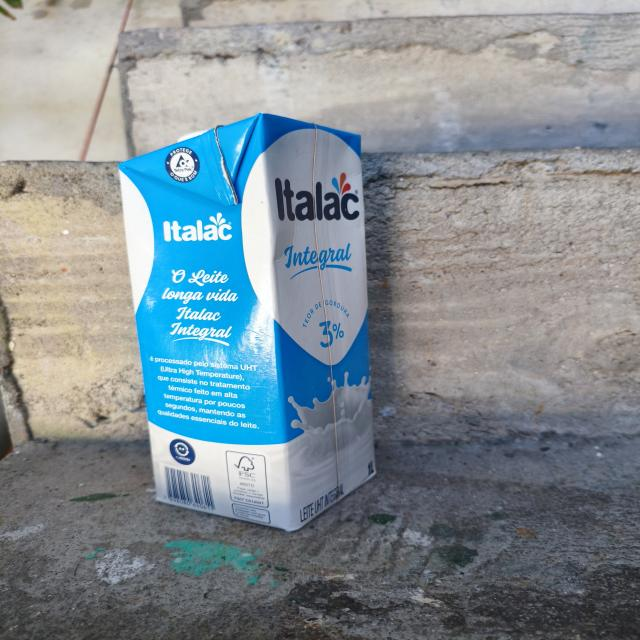Caixa de Leite: (115, 109, 392, 532)
